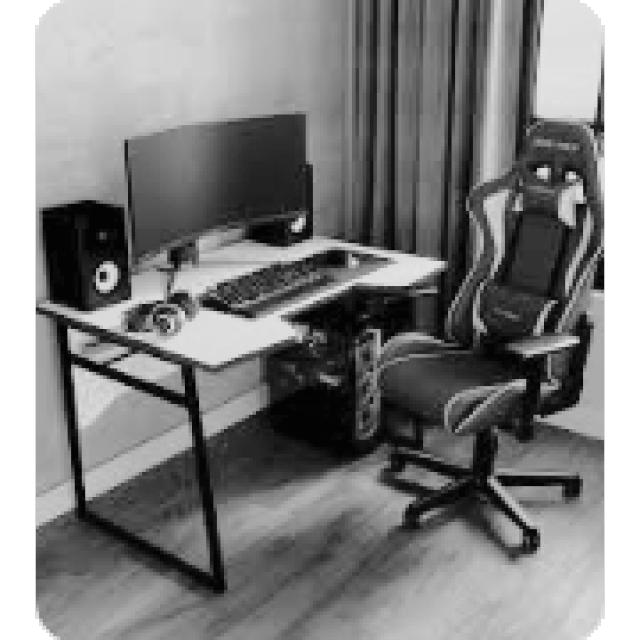book: (373, 114, 601, 550)
table: (36, 229, 448, 590)
